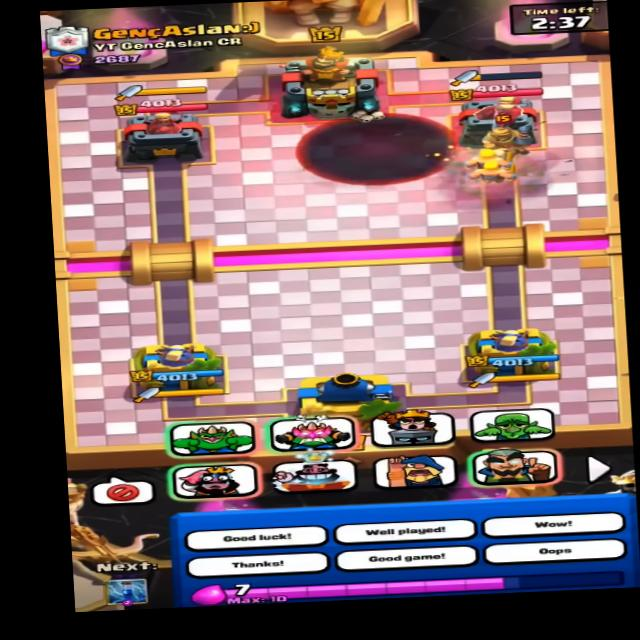prince: (467, 116, 533, 170)
